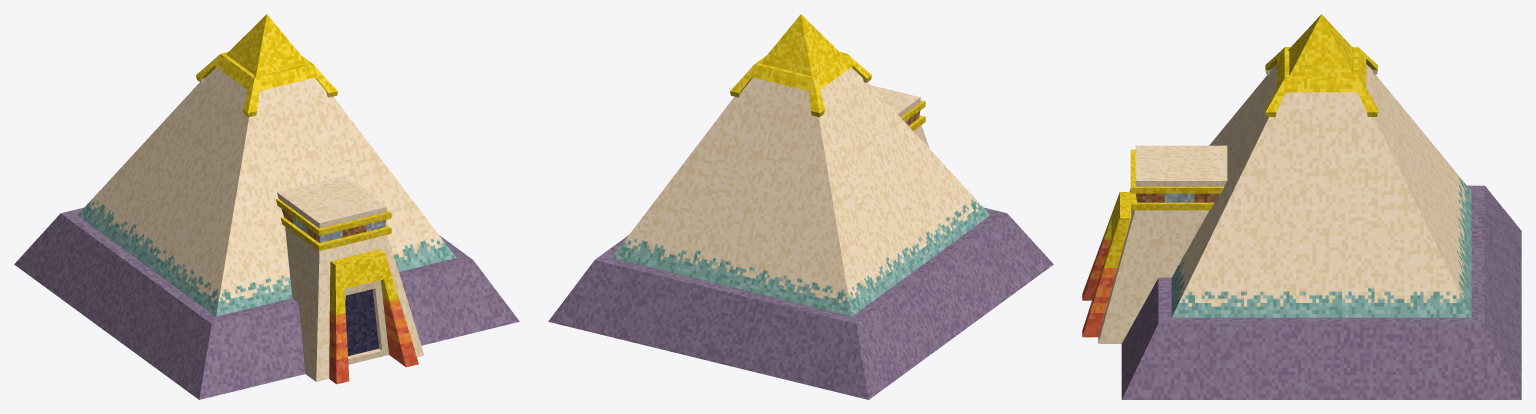
Rendered from Pirámide.fbx.
The picture shows the model from 3 angles, left to right: view 1: azimuth 30°, elevation 25°; view 2: azimuth 150°, elevation 25°; view 3: azimuth 270°, elevation 25°; orthographic projection. The views are drawn at different scales.
Parts seen in each view (by area): view 1: Cube; view 2: Cube; view 3: Cube.
Part boxes in pixels (left/top/right/bottom): Cube: left=14, top=14, right=519, bottom=399; Cube: left=548, top=14, right=1053, bottom=399; Cube: left=1082, top=14, right=1521, bottom=399.
Size of the model in its own units: 6.55 by 5.45 by 7.19.
